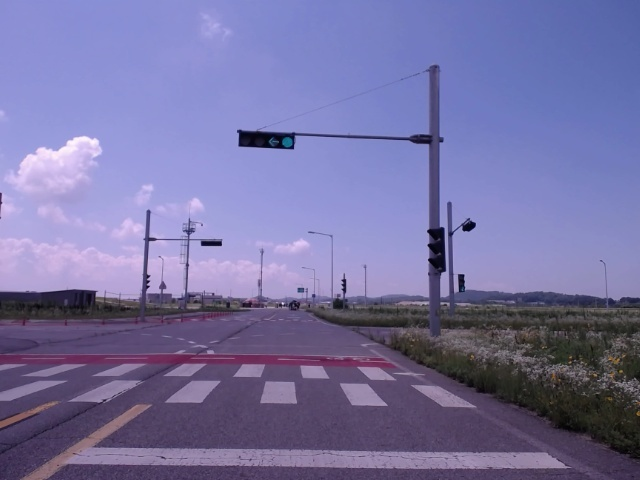all_green_4: (239, 129, 293, 150)
